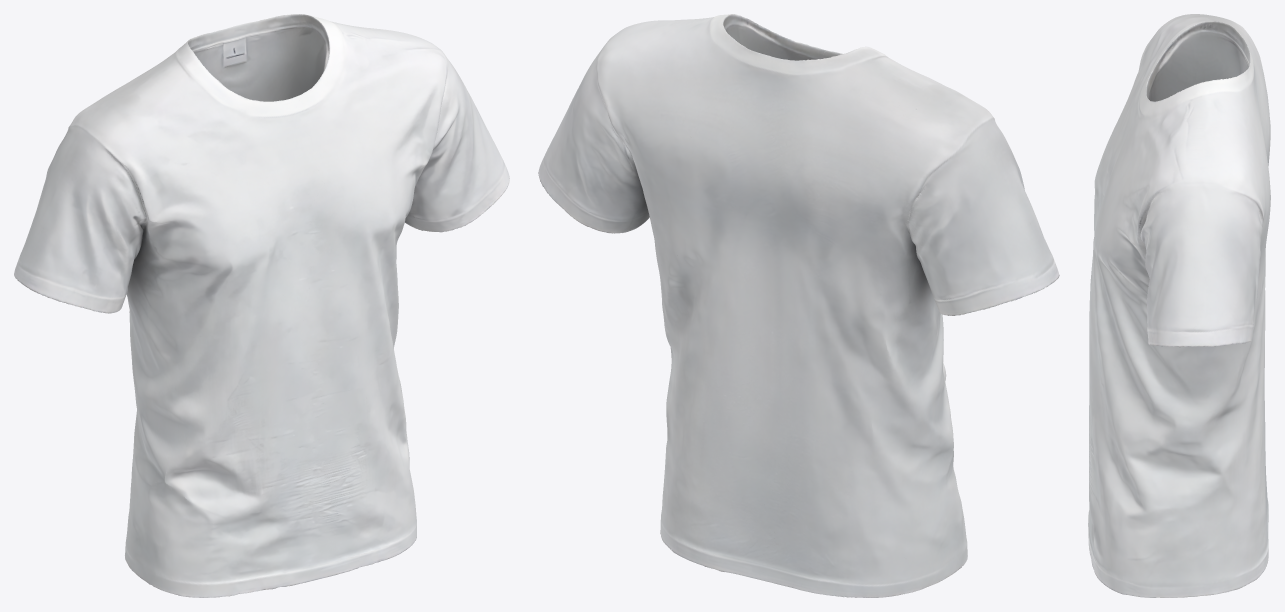
Rendered from base_basic_shaded.glb.
3 views of the same model, side by side, from view 1: azimuth 30°, elevation 25°; view 2: azimuth 150°, elevation 25°; view 3: azimuth 270°, elevation 25° (orthographic). The views are drawn at different scales.
Parts seen in each view (by area): view 1: model; view 2: model; view 3: model.
Part boxes in pixels (bbox=[...]): model: bbox=[14, 14, 509, 597]; model: bbox=[538, 14, 1059, 597]; model: bbox=[1088, 14, 1270, 597].
Size of the model in its own units: 1.76 by 1.75 by 0.5946.
1 material, 1 textured.
